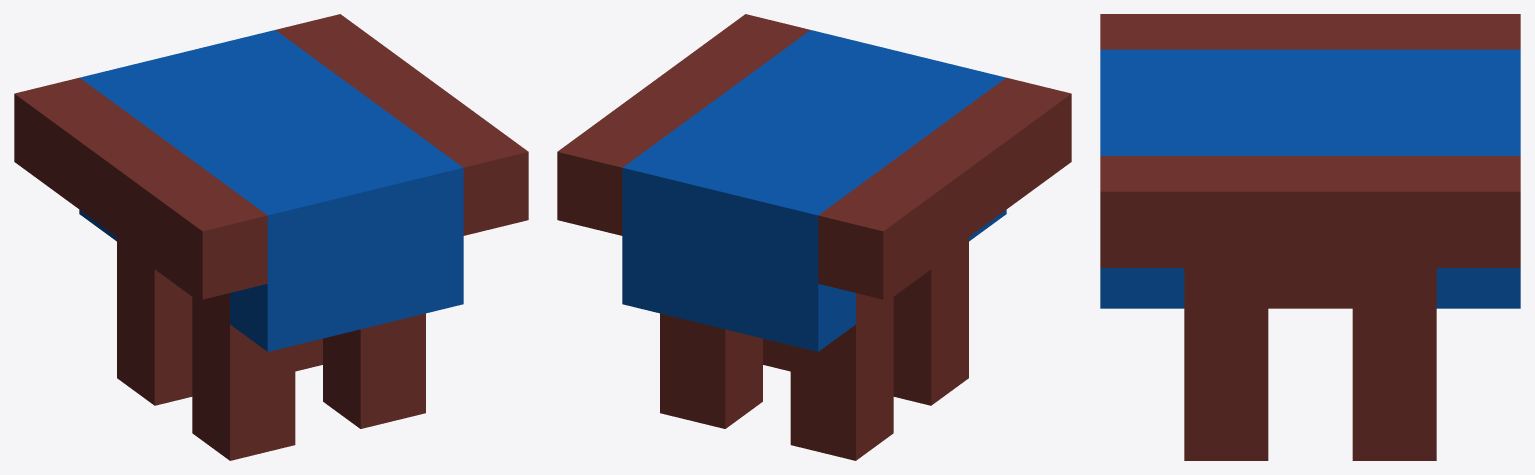
Rendered from small_bench_b_blue.obj.
3 views of the same model, side by side, from view 1: azimuth 30°, elevation 25°; view 2: azimuth 150°, elevation 25°; view 3: azimuth 270°, elevation 25° (orthographic). The views are drawn at different scales.
Bounding box in the file's own units: 0.5 × 0.4 × 0.5.
Materials: 1 (1 with a texture image).
